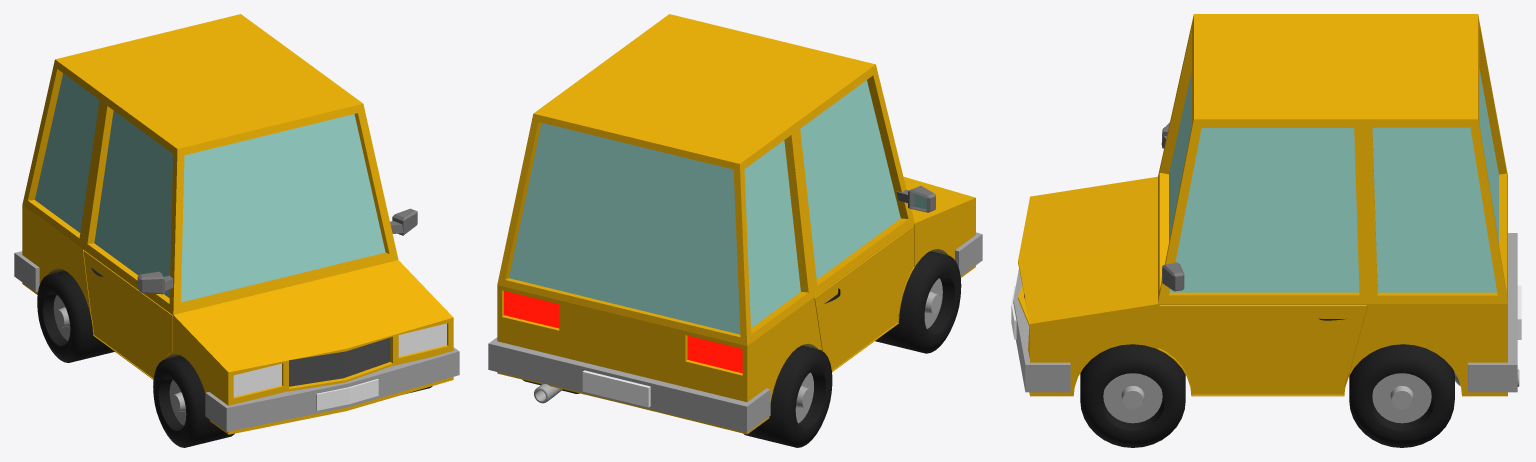
The model's file is Player4.fbx.
3 views of the same model, side by side, from view 1: azimuth 30°, elevation 25°; view 2: azimuth 150°, elevation 25°; view 3: azimuth 270°, elevation 25° (orthographic). The views are drawn at different scales.
Parts seen in each view (by area): view 1: Specchietto, RR, FR; view 2: Specchietto, RR, FR; view 3: Specchietto, RL, FL.
Boxes of the visible parts, left/top/right/bottom form: Specchietto: left=14, top=14, right=459, bottom=434; RR: left=37, top=271, right=114, bottom=362; FR: left=153, top=355, right=234, bottom=447; Specchietto: left=488, top=14, right=982, bottom=434; RR: left=743, top=345, right=832, bottom=447; FR: left=875, top=251, right=961, bottom=353; Specchietto: left=1011, top=14, right=1521, bottom=396; RL: left=1349, top=344, right=1454, bottom=447; FL: left=1080, top=344, right=1185, bottom=447.
Size of the model in its own units: 247 by 229 by 339.
